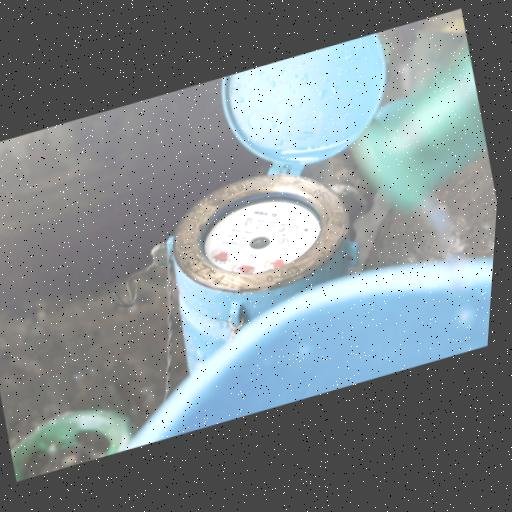0: (244, 213, 256, 229)
2: (261, 216, 280, 234), (252, 219, 269, 232)
3: (283, 221, 298, 239)
4: (271, 217, 292, 237)
border_water_meter_number: (237, 200, 305, 252)
